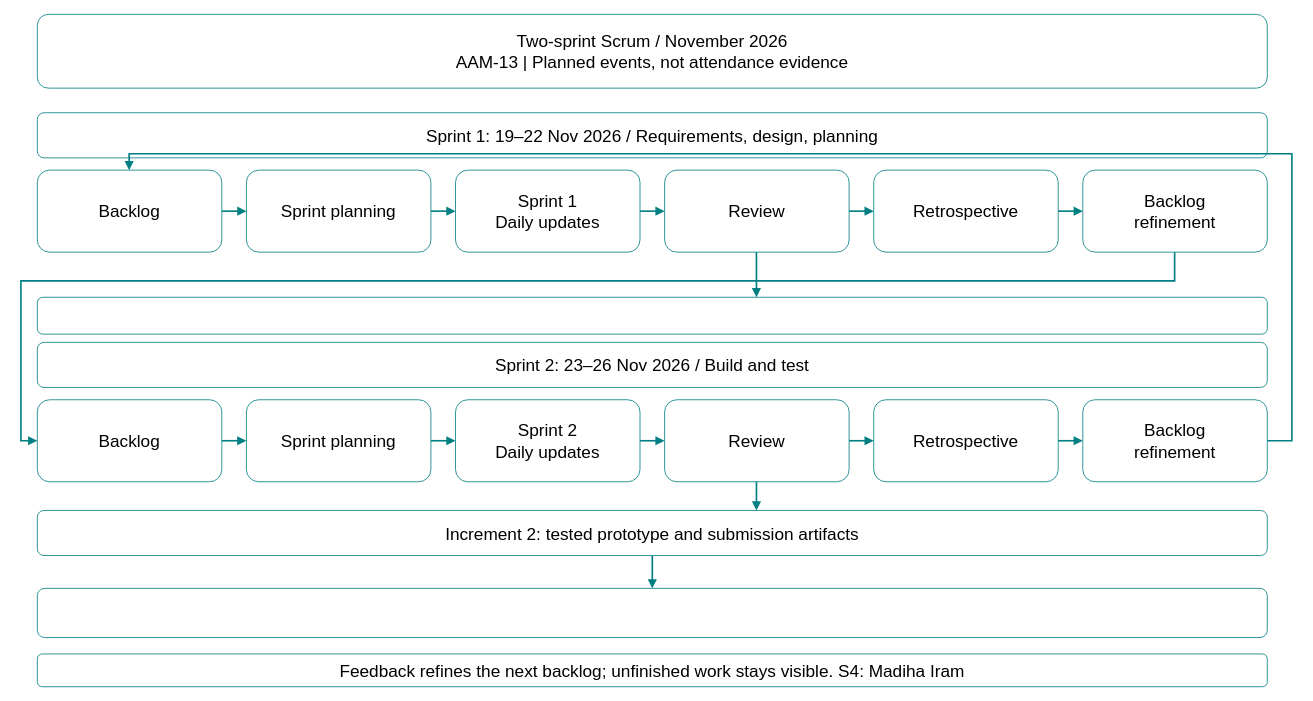
The diagram is 1313 pixels wide and 701 high, and some of its shapes have lost their labels. The centre of each missing label's shape, as x and y in pixels:
"27 Nov: final checks and submission checkpoint; retain receipt" goes at (x=651, y=613).
"Increment 1: reviewed requirements, models and plan" goes at (x=651, y=315).
